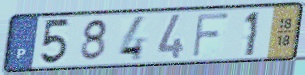1: (243, 9, 262, 58)
4: (115, 15, 148, 63), (156, 12, 186, 62)
5: (38, 17, 74, 67)
8: (78, 18, 108, 63)
F: (190, 10, 232, 59)
